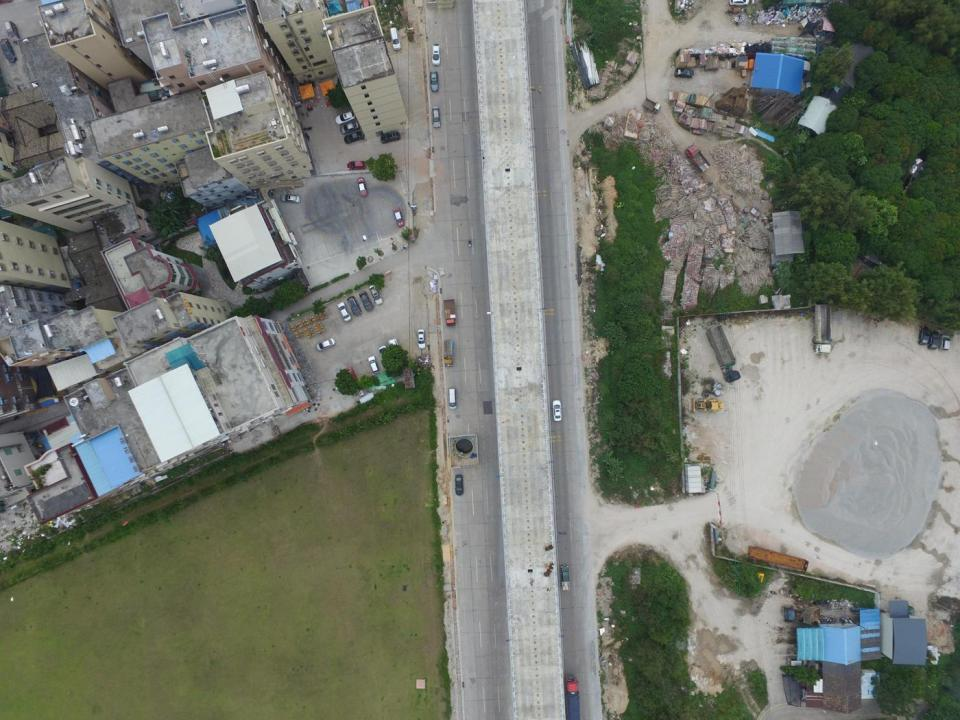car: (0, 37, 19, 64), (3, 20, 22, 44), (335, 111, 356, 126), (359, 291, 374, 312), (347, 296, 362, 316), (337, 301, 351, 322), (369, 284, 383, 305), (316, 337, 336, 351), (389, 27, 401, 50), (343, 366, 358, 384), (379, 132, 401, 144), (344, 131, 364, 144), (917, 325, 930, 345), (431, 43, 442, 65), (431, 106, 442, 128), (378, 345, 390, 365), (393, 207, 404, 228), (340, 122, 359, 134), (388, 338, 399, 358), (674, 68, 694, 79), (928, 330, 939, 350), (552, 399, 562, 421), (368, 355, 379, 374), (357, 177, 367, 197), (280, 193, 300, 203), (455, 474, 464, 496), (430, 70, 439, 91), (347, 160, 365, 170), (417, 329, 425, 349), (729, 0, 749, 6)
truck: (706, 324, 741, 383), (748, 545, 809, 572), (812, 303, 832, 355), (783, 603, 822, 625), (684, 144, 711, 173), (564, 674, 580, 720), (401, 360, 416, 389), (442, 299, 457, 326), (643, 96, 661, 115), (442, 339, 454, 367), (560, 565, 570, 590)
van: (938, 334, 950, 351), (448, 387, 457, 409), (787, 657, 807, 666)
